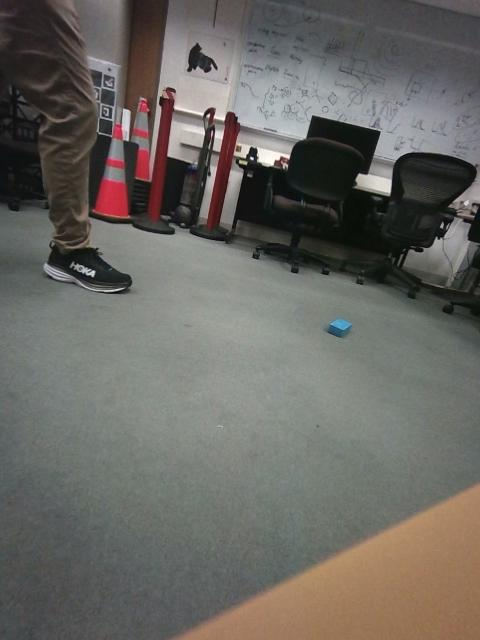block: (60, 428, 162, 490)
